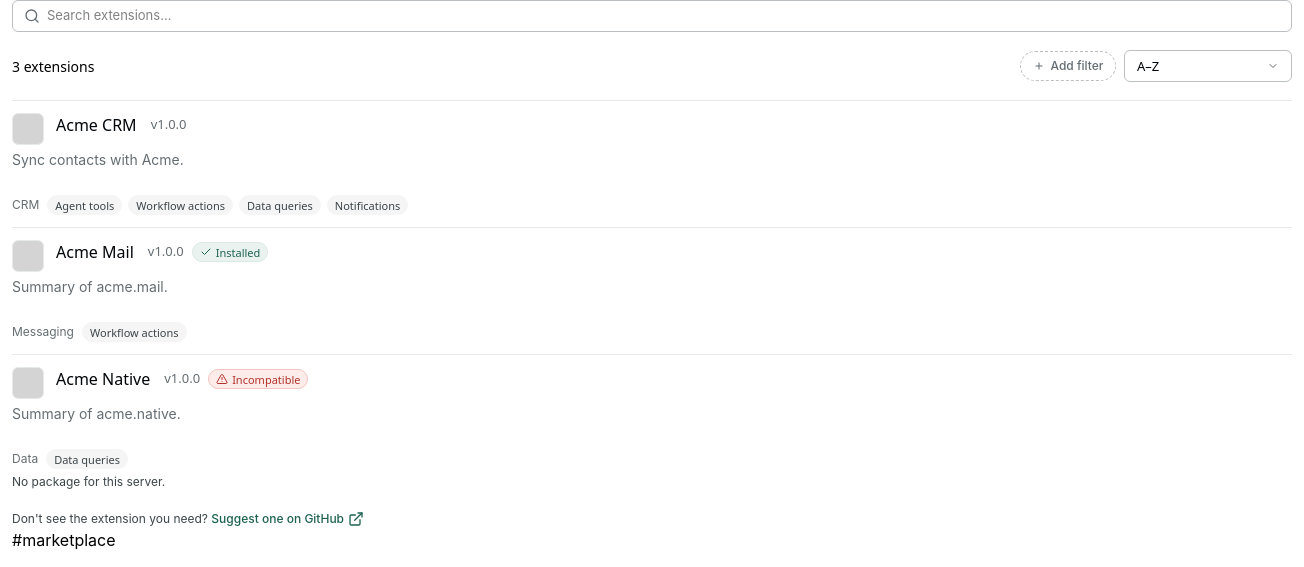
Scenario: on a phone the results are rows and the facets one Add filter control
Expected: the heading "3 extensions" is shown, [12,56,94,76]
Expected: the text "Incompatible" is shown, [208,369,308,389]
Click the button "Add filter".
click(1068, 66)  # box [1020,51,1116,81]
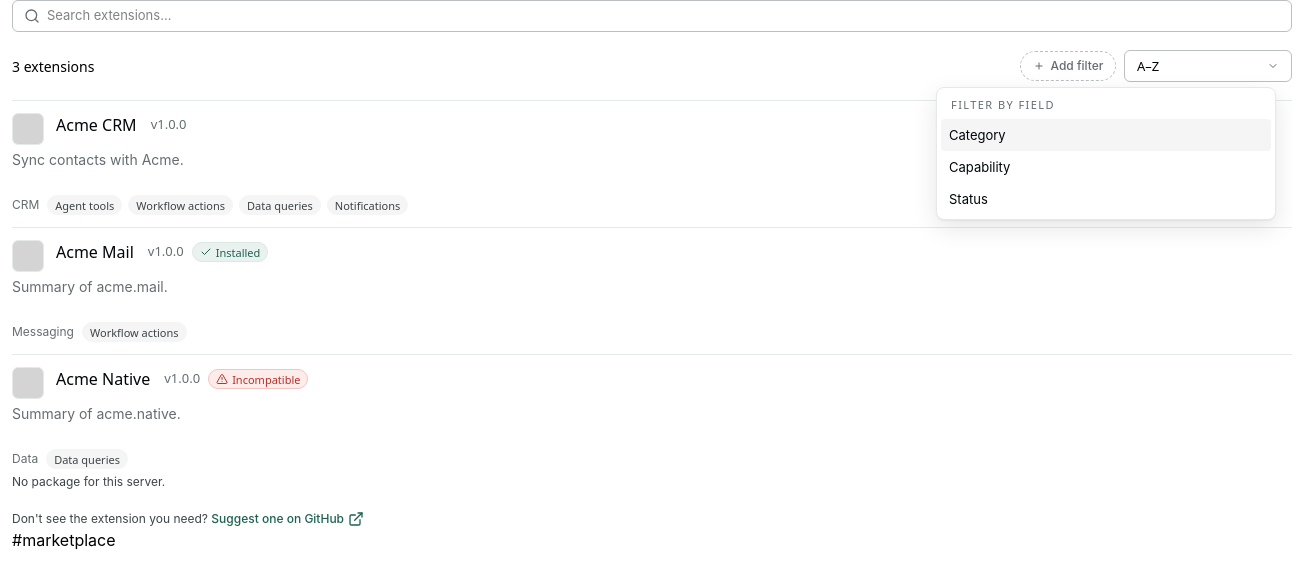
Click the menu item "Status".
click(968, 199)  # box [941,183,1271,215]
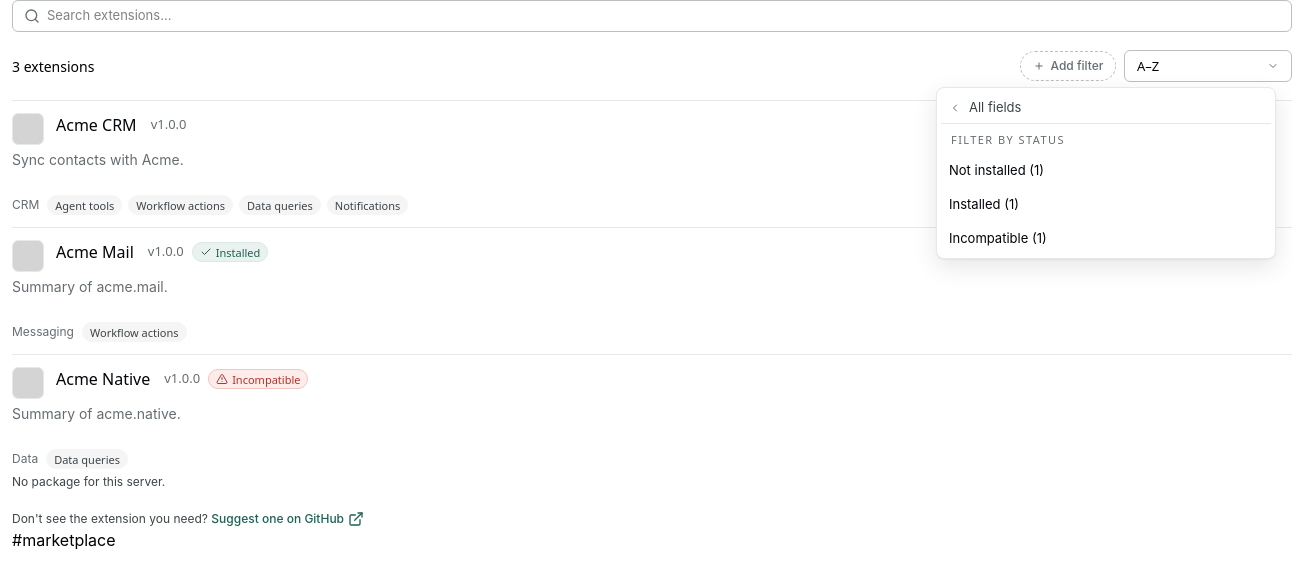
Click the menu item "Installed (1)".
click(984, 204)  # box [941,188,1271,220]
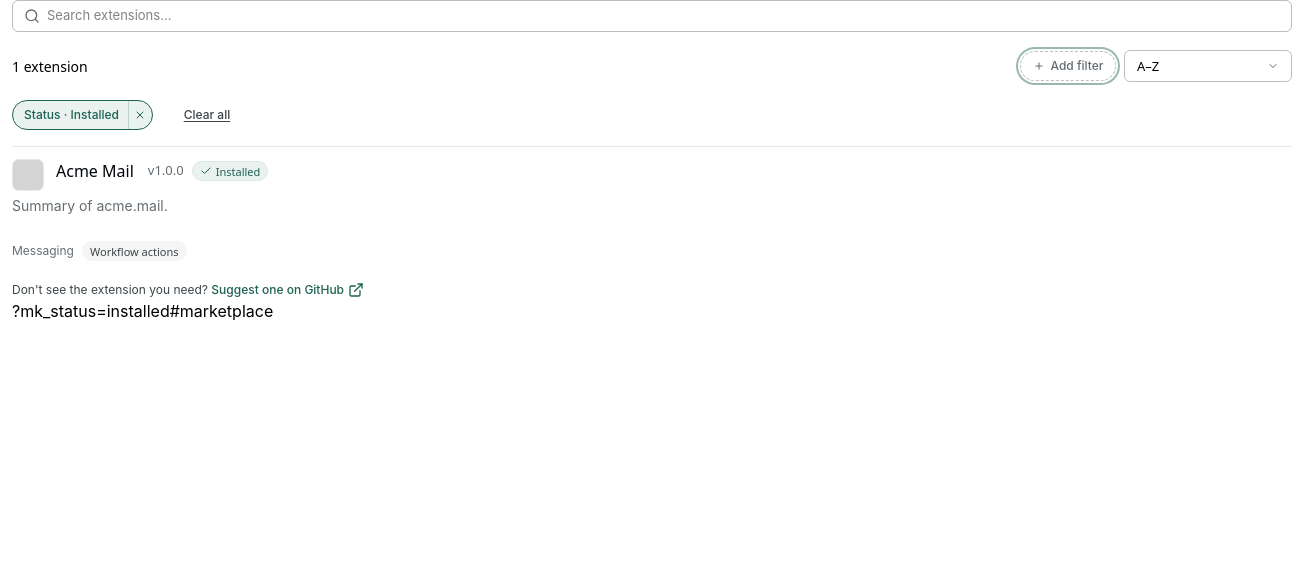
Now the heading "1 extension" is shown, box [12,56,88,76]
Now the text "Status · Installed" is shown, box [24,107,119,122]
